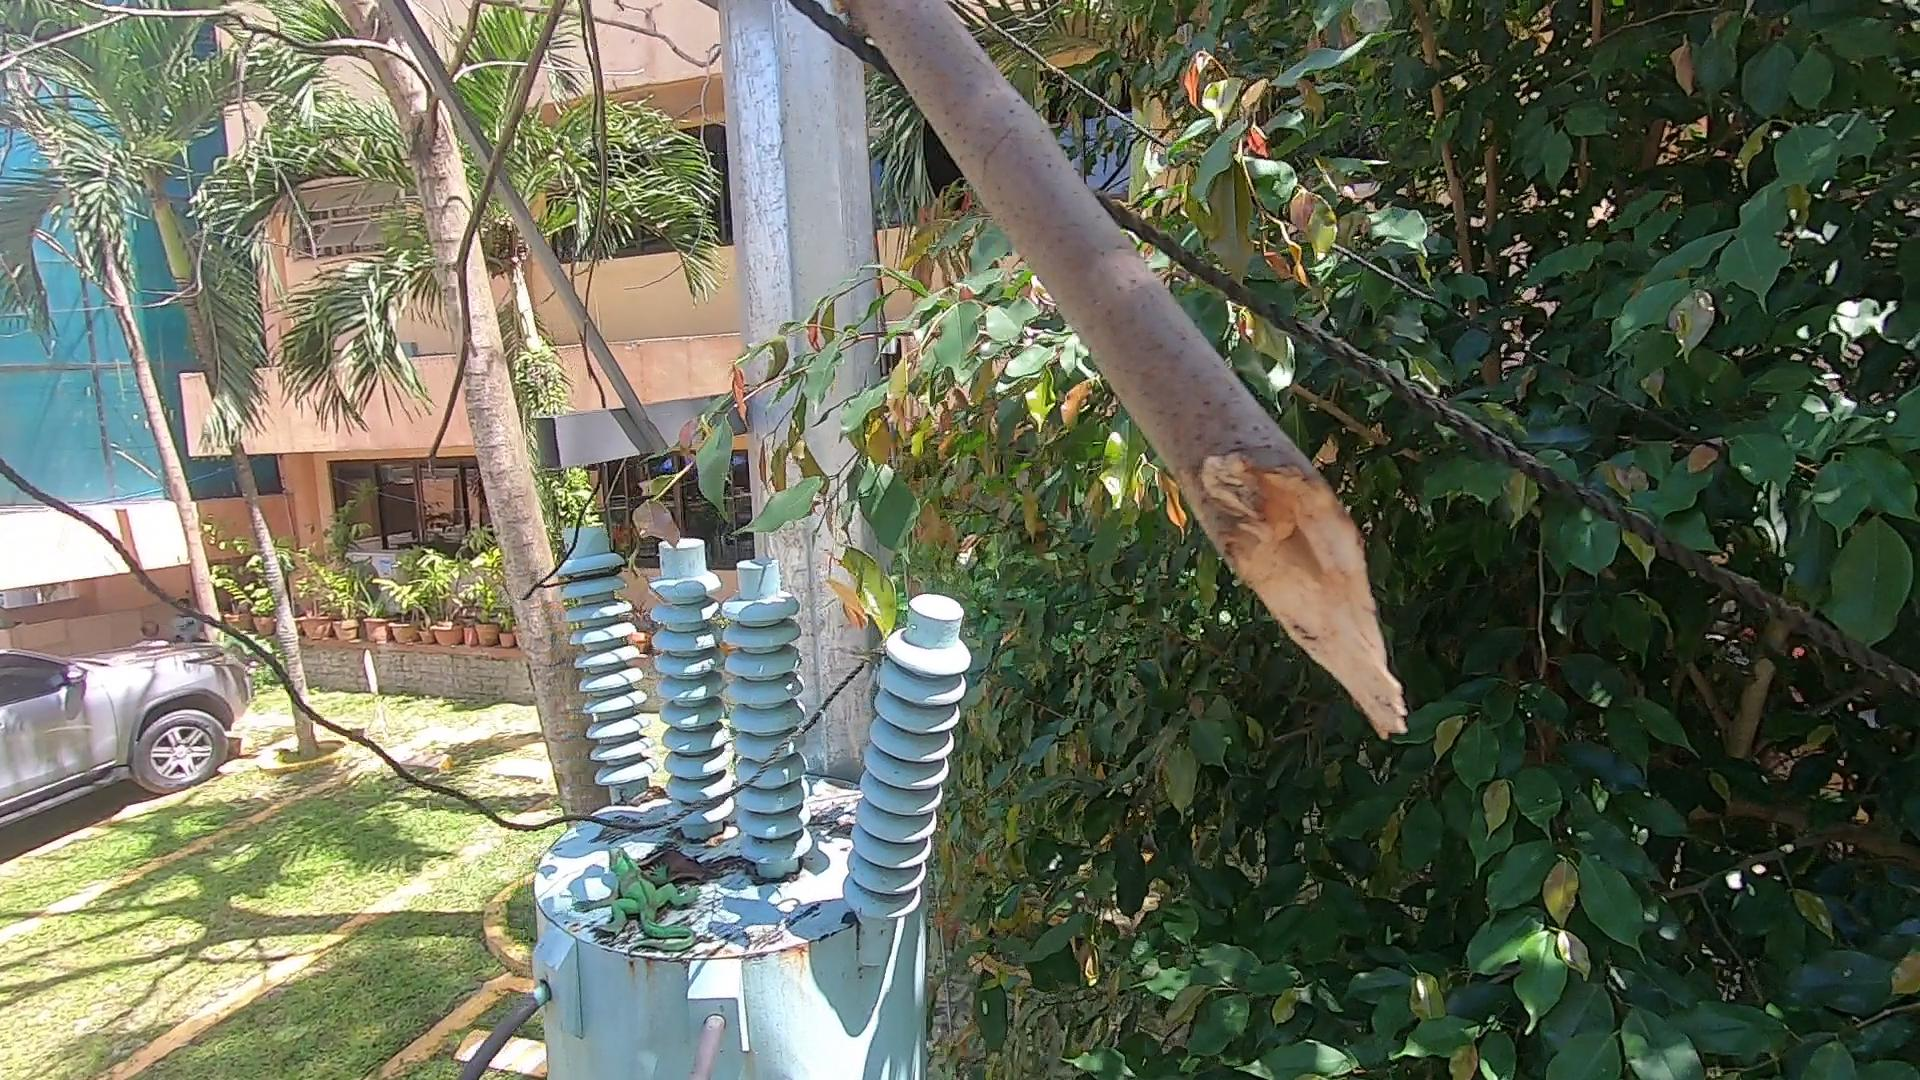branch with leaves: (616, 343, 960, 665)
leaf: (636, 837, 723, 891), (808, 800, 853, 836), (607, 790, 678, 803)
tree branch: (785, 7, 1449, 774)
